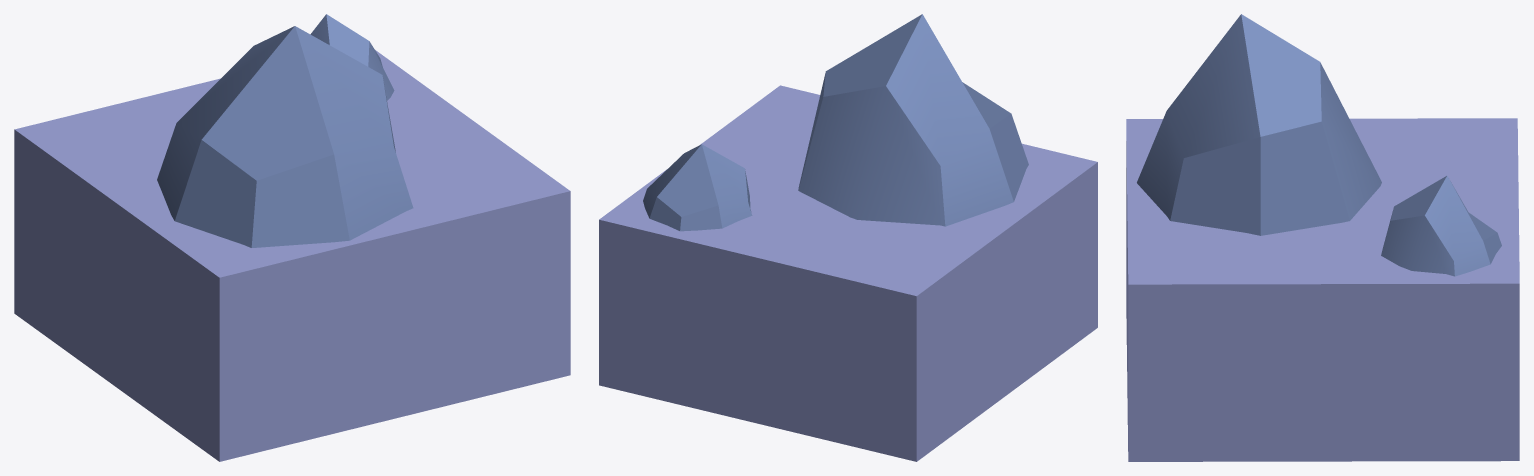
The model's file is rocks.fbx.
3 renders of one model, left to right at view 1: azimuth 30°, elevation 25°; view 2: azimuth 150°, elevation 25°; view 3: azimuth 270°, elevation 25°, orthographic. The views are drawn at different scales.
Visible parts, largest first — view 1: rocksSmall; view 2: rocksSmall; view 3: rocksSmall.
Boxes of the visible parts, bbox=[...] form: rocksSmall: bbox=[14, 14, 570, 461]; rocksSmall: bbox=[599, 14, 1097, 461]; rocksSmall: bbox=[1126, 14, 1519, 461].
Bounding box in the file's own units: 201 × 195 × 201.
